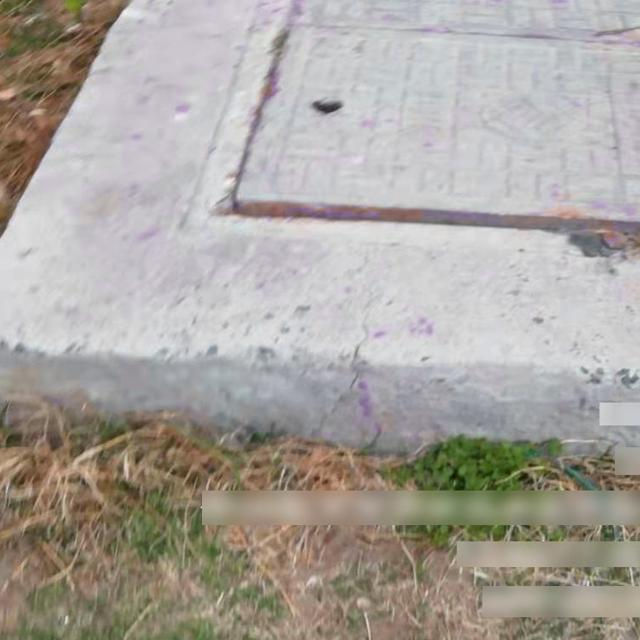good: (171, 0, 640, 261)
